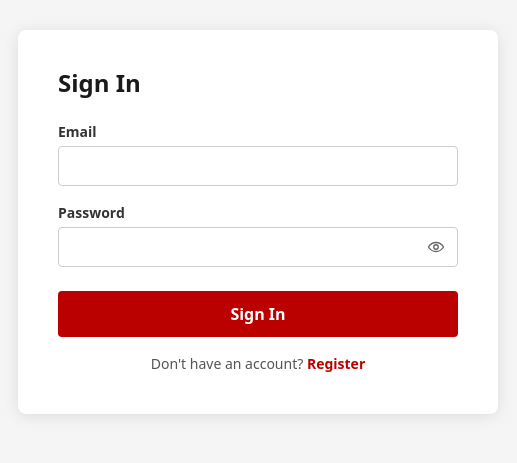
Test: Login page › shows error when credentials are invalid
Step 1. Type "student@osu.edu" into the field labelled "Email" → (258, 166), box [58,146,458,186]
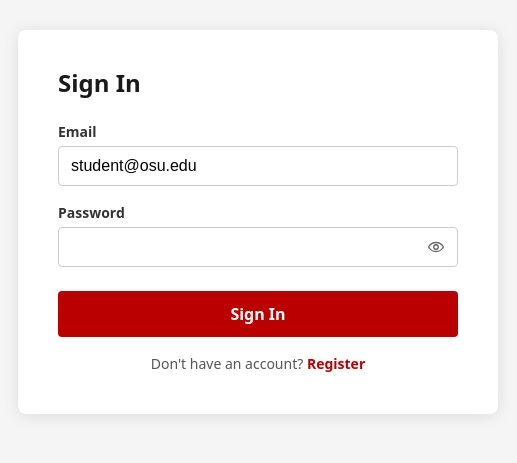
Step 2. Type "wrong-password" into the password field labelled "Password" → (258, 247), box [58,227,458,267]
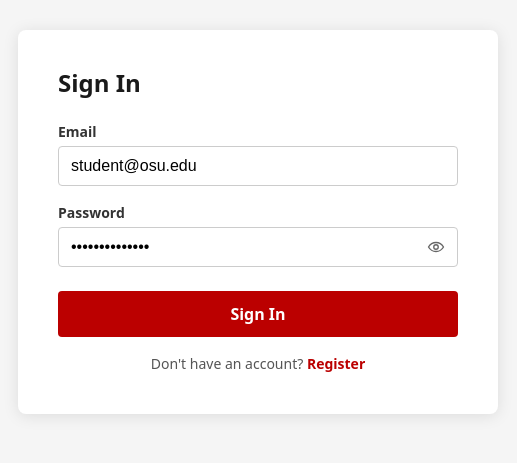
Step 3. Click the button "Sign In" → (258, 314), box [58,291,458,337]
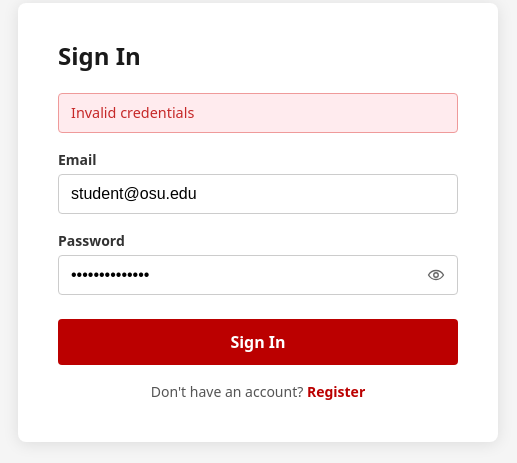
Check: the text "Invalid credentials" is shown, box [58,93,458,132]
